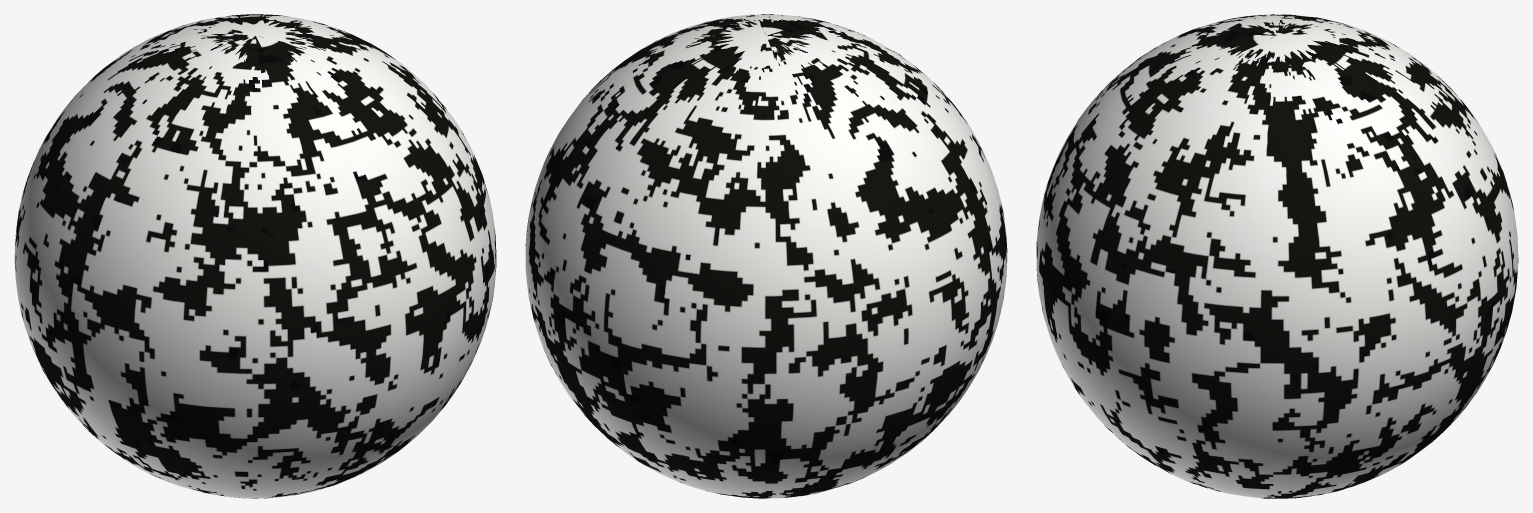
The model's file is kepler-186f.glb.
3 renders of one model, left to right at view 1: azimuth 30°, elevation 25°; view 2: azimuth 150°, elevation 25°; view 3: azimuth 270°, elevation 25°, orthographic.
Visible parts, largest first — view 1: Object_4; view 2: Object_4; view 3: Object_4.
Part boxes in pixels (x1,y1,x2,y2): Object_4: (14,14,496,498); Object_4: (525,14,1007,498); Object_4: (1036,14,1518,498).
Bounding box in the file's own units: 1.98 × 2 × 1.98.
3 materials, 2 textured.
